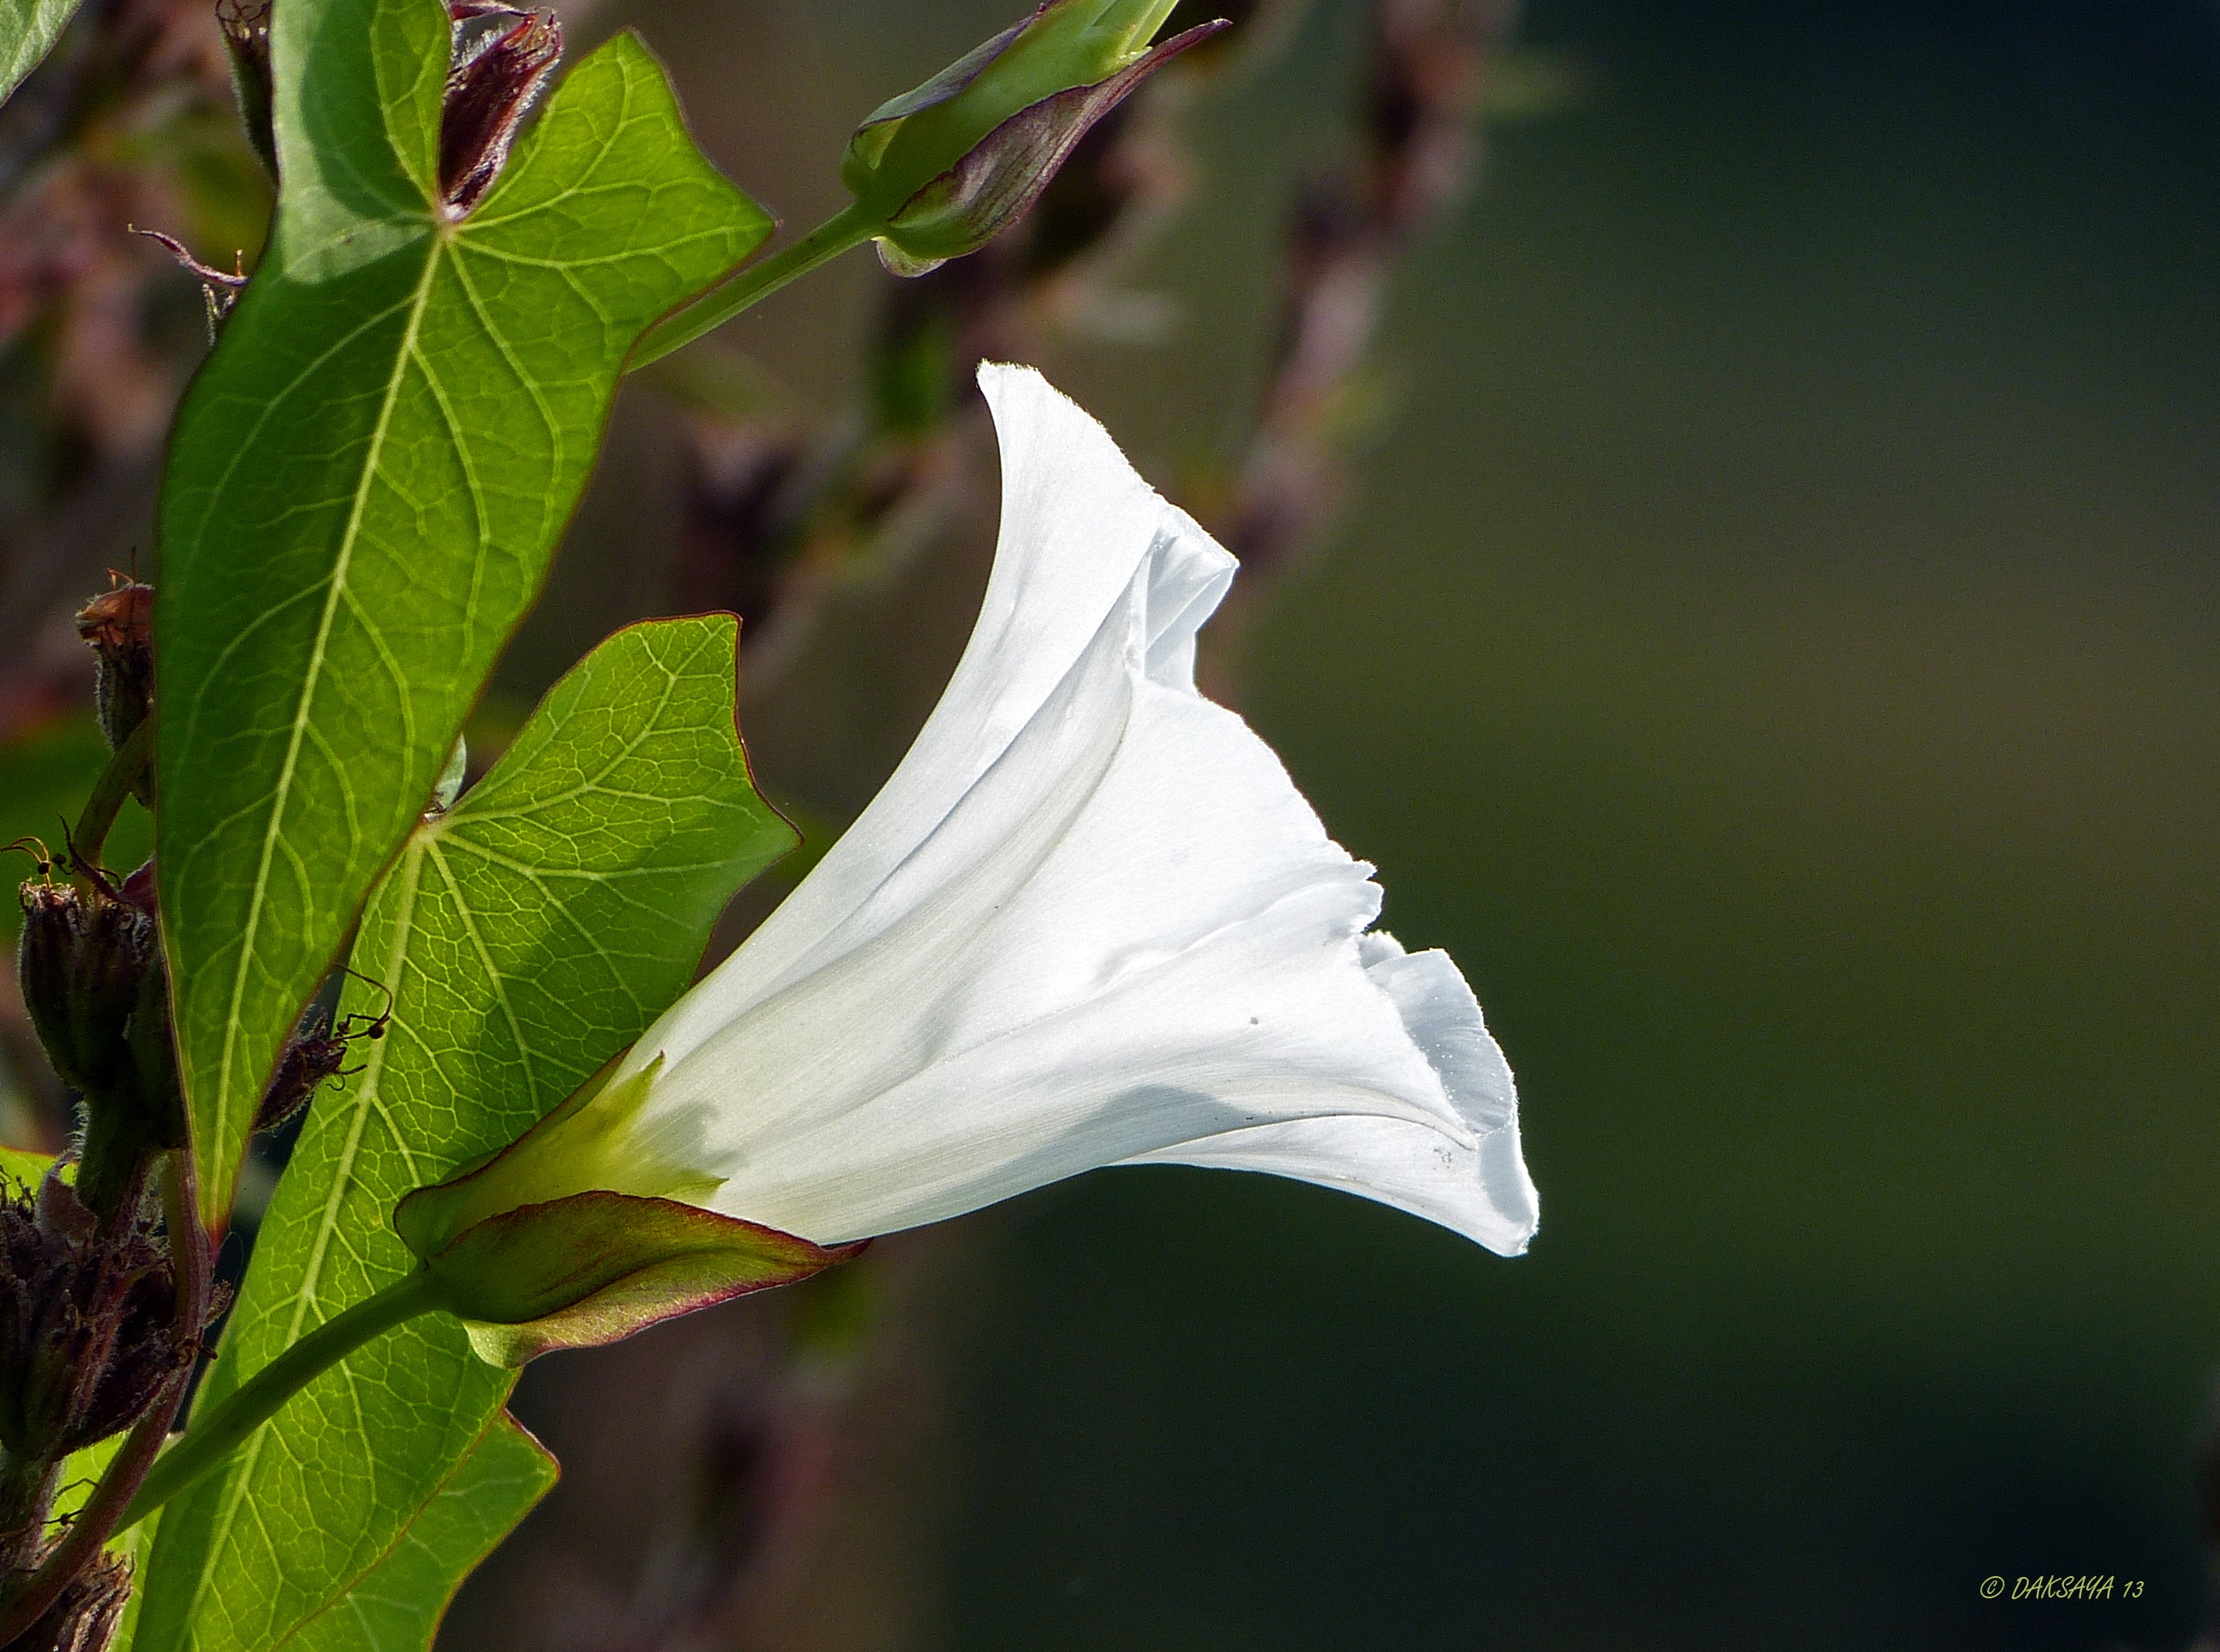haagwinde: (394, 319, 1583, 1373), (122, 3, 767, 1227)
